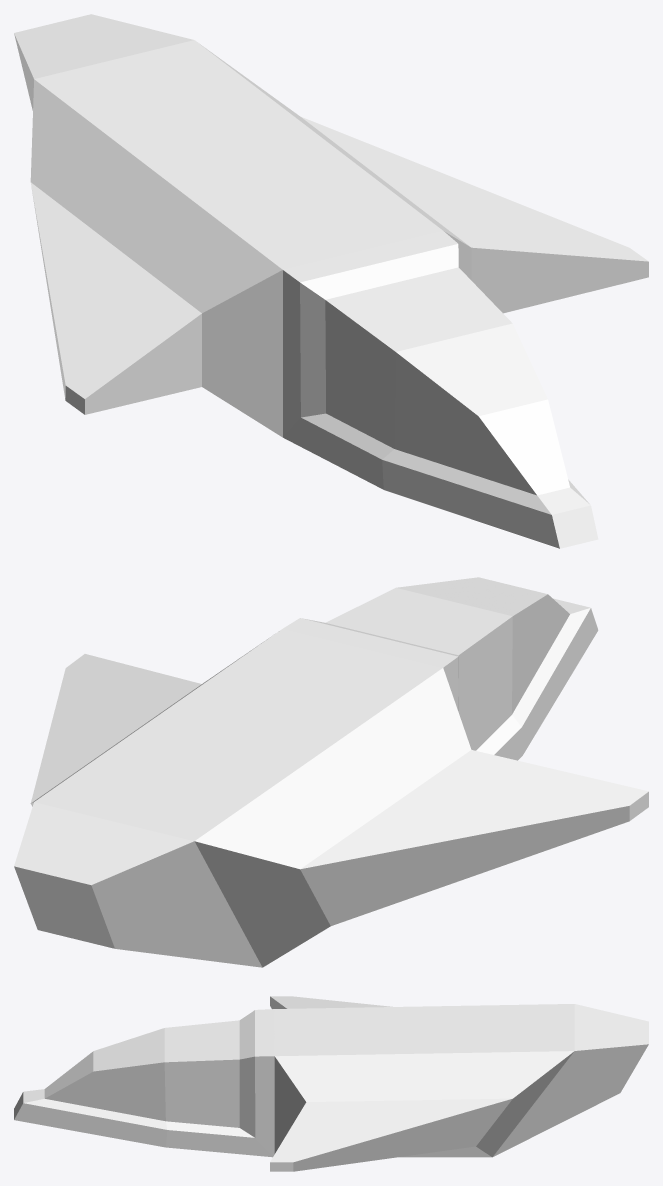
Rendered from Speedy.obj.
The picture shows the model from 3 angles, top to bottom: view 1: azimuth 30°, elevation 25°; view 2: azimuth 150°, elevation 25°; view 3: azimuth 270°, elevation 25°; orthographic projection. The views are drawn at different scales.
Visible parts, largest first — view 1: Body; view 2: Body; view 3: Body.
Boxes of the visible parts, bbox=[...] form: Body: bbox=[14, 14, 648, 548]; Body: bbox=[14, 577, 648, 967]; Body: bbox=[14, 996, 648, 1171].
Bounding box in the file's own units: 7.04 × 2.1 × 11.37.
1 material, 1 textured.
